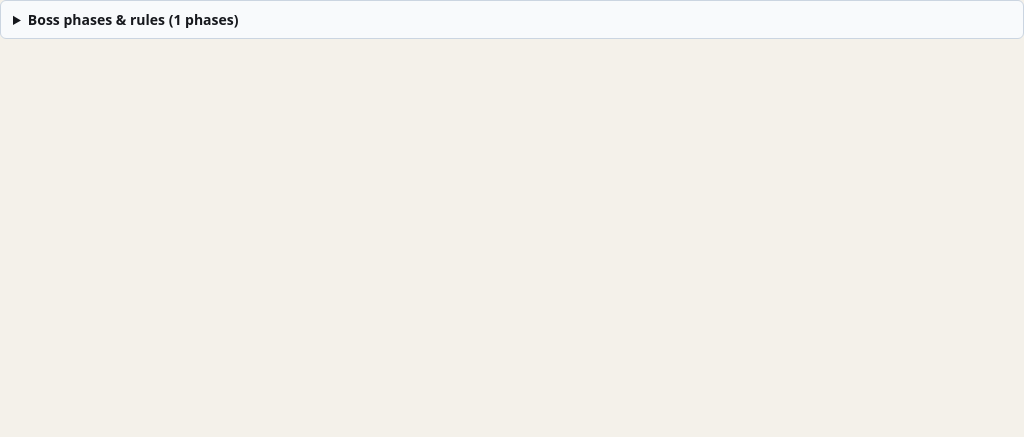
Test: boss rule-breaks and other win conditions › refuses adding a second rule-break in the BossEditor inspector
Click the heading "Boss phases & rules (1 phases)" at [133, 20], box [28,10,238,29]
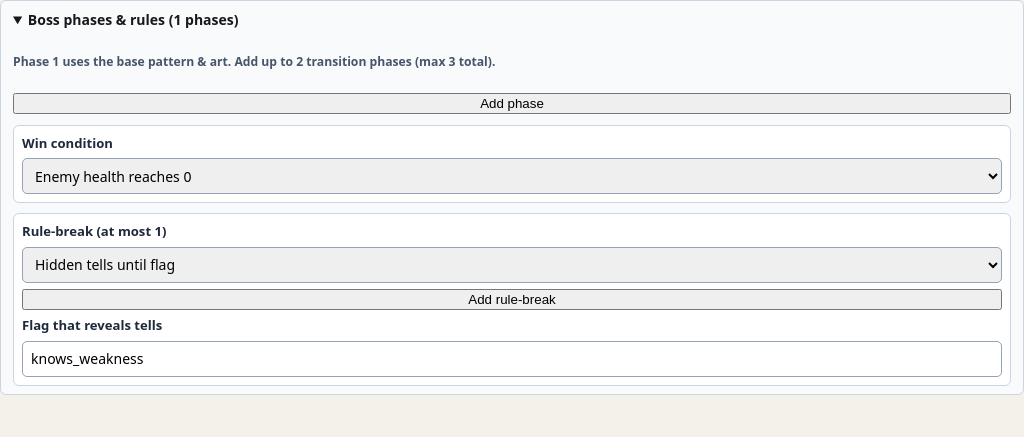
Click the button "Add rule-break" at [512, 300], box [22,289,1002,310]
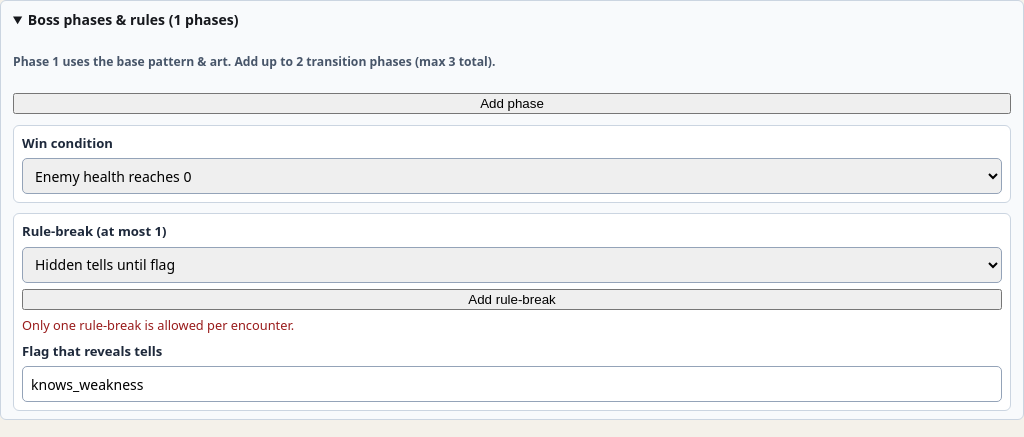
Expected: the message shows "Only one rule-break", [22,316,294,334]
